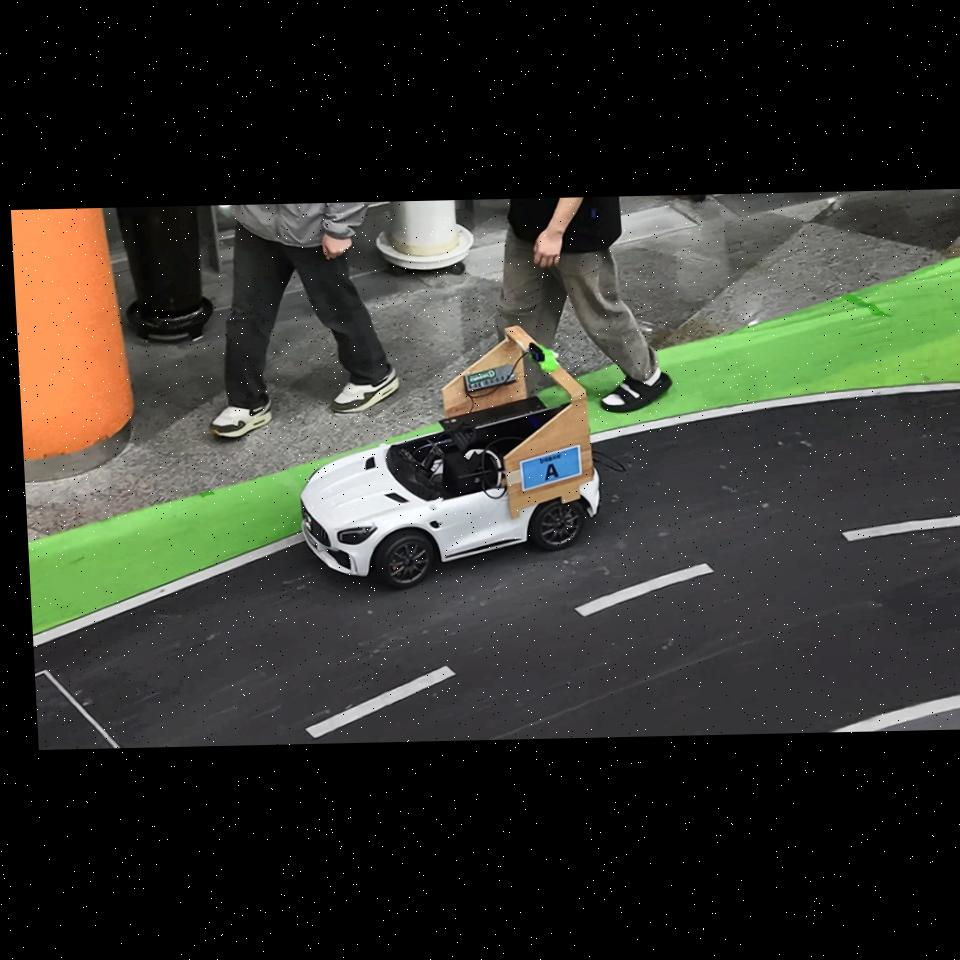broken_line: (305, 666, 457, 738), (575, 563, 716, 616), (842, 516, 960, 541)
